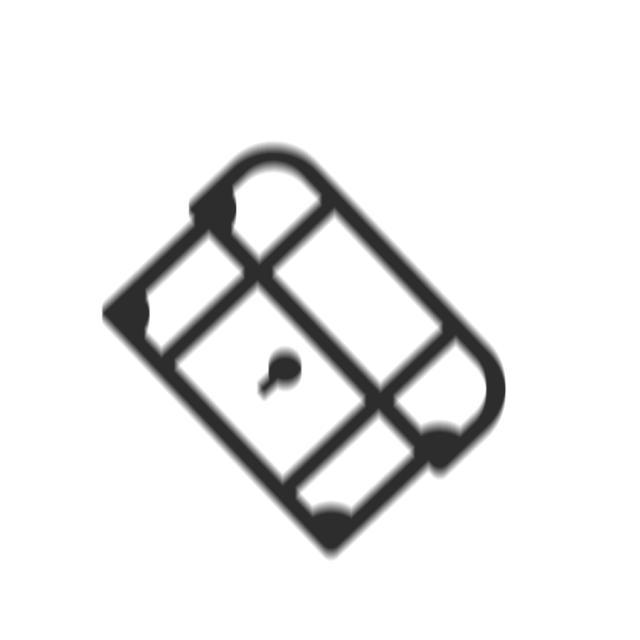treasure_box: (95, 133, 515, 572)
